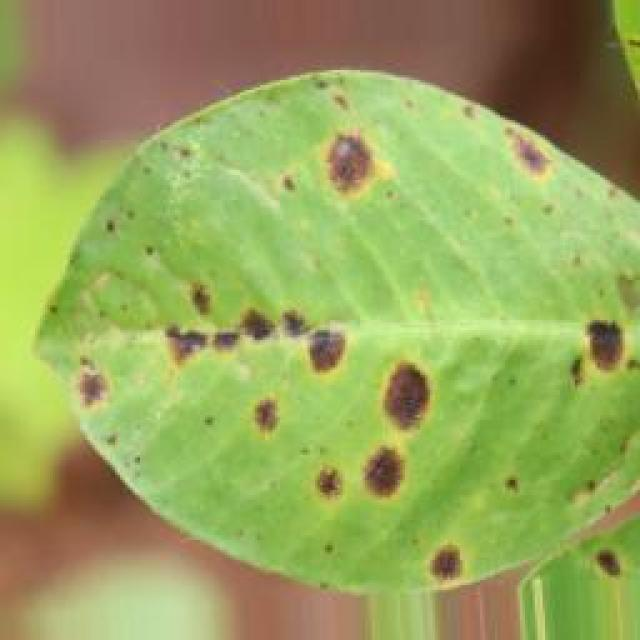Yellowish: (30, 87, 640, 592)
